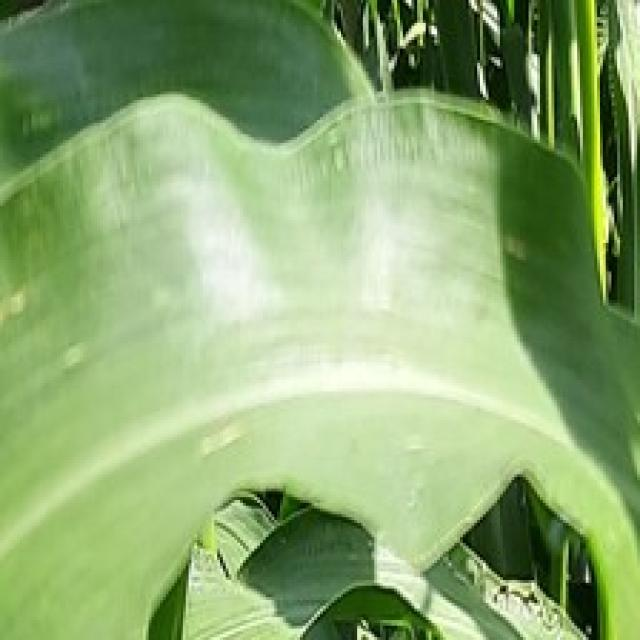Corn: (0, 0, 637, 637), (0, 0, 377, 209)
